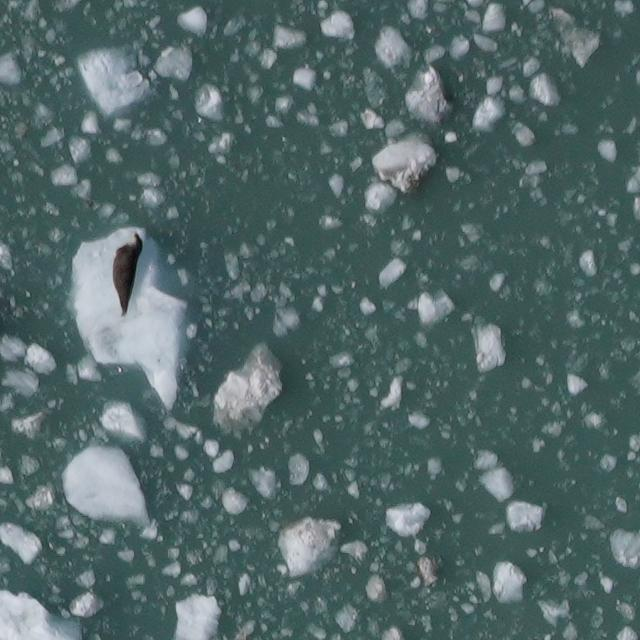seal: (109, 229, 146, 320)
